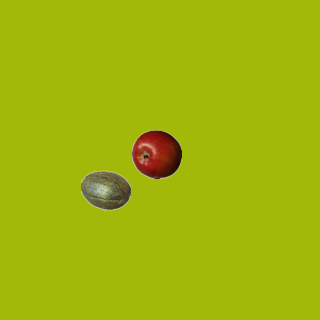Apple Braeburn: (131, 129, 181, 179)
Melon Piel de Sapo: (80, 165, 130, 215)
